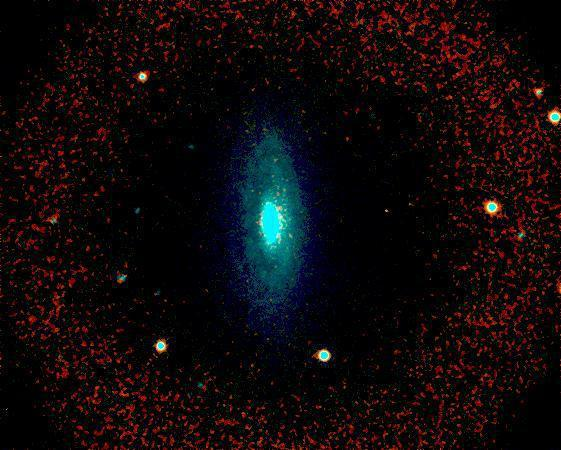star: (371, 197, 401, 227)
